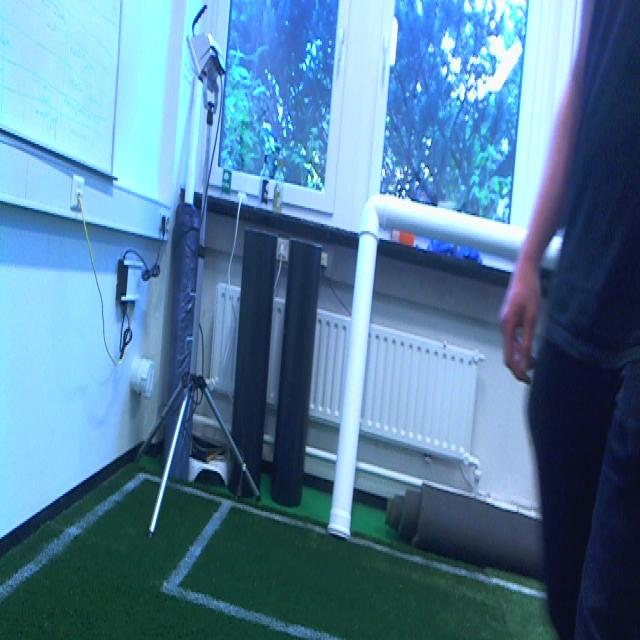goalpost: (337, 165, 382, 530)
